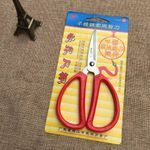scissor: (56, 30, 121, 132)
